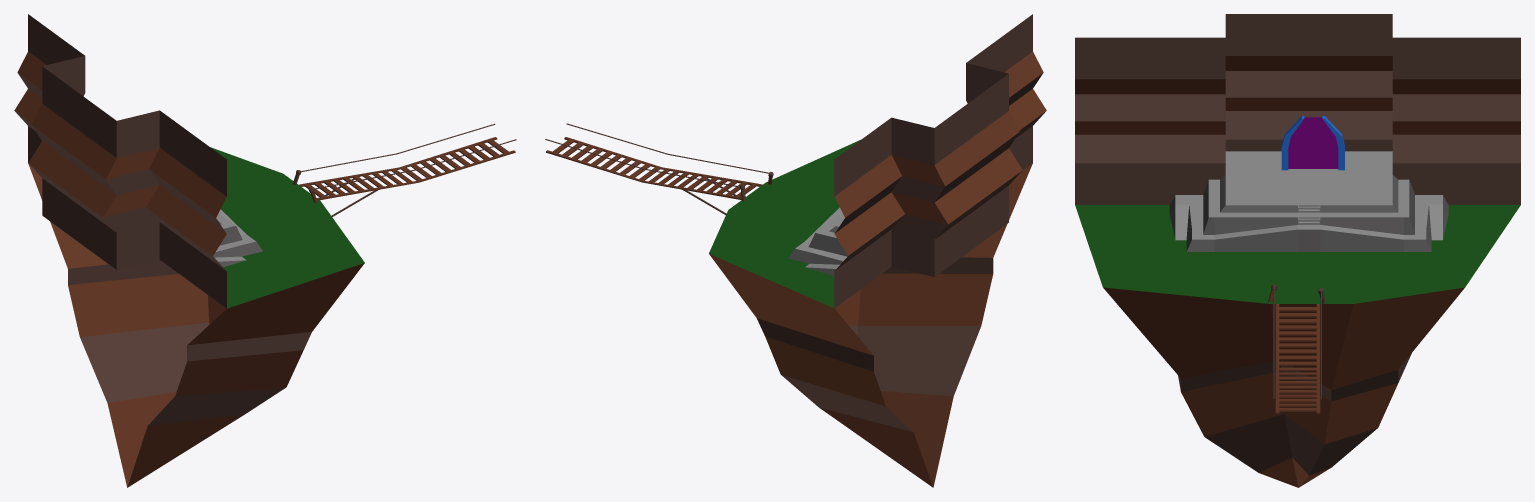
The model's file is Level_Concept_2.fbx.
3 renders of one model, left to right at view 1: azimuth 30°, elevation 25°; view 2: azimuth 150°, elevation 25°; view 3: azimuth 270°, elevation 25°, orthographic. The views are drawn at different scales.
Visible parts, largest first — view 1: pPlane2, pPlane3, pCube11, polySurface1, pCylinder5; view 2: pPlane2, pPlane3, pCube11, polySurface1, pCylinder5; view 3: pPlane3, pPlane2, polySurface1, pCube11, polySurface8.
Boxes of the visible parts, x1,y1,x2,y2 form: pPlane2: [28, 147, 364, 487]; pPlane3: [14, 14, 226, 308]; pCube11: [299, 137, 515, 200]; polySurface1: [213, 209, 262, 267]; pCylinder5: [301, 123, 516, 189]; pPlane2: [709, 140, 1032, 487]; pPlane3: [834, 14, 1046, 308]; pCube11: [546, 137, 762, 199]; polySurface1: [788, 207, 847, 275]; pCylinder5: [545, 123, 768, 187]; pPlane3: [1075, 14, 1520, 204]; pPlane2: [1075, 205, 1520, 487]; polySurface1: [1169, 151, 1448, 251]; pCube11: [1275, 304, 1320, 413]; polySurface8: [1281, 116, 1344, 170].
Bounding box in the file's own units: 2022 × 1783 × 1600.
